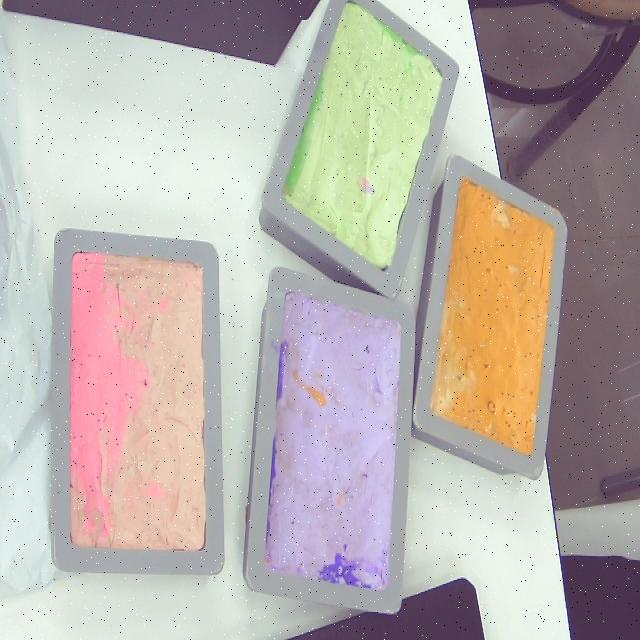block: (48, 228, 226, 576), (257, 0, 459, 304), (240, 267, 411, 614), (406, 152, 569, 482)
